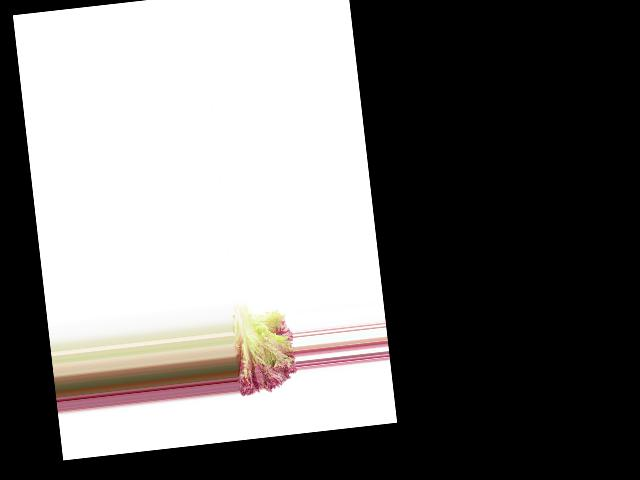lettuce: (229, 295, 298, 401)
